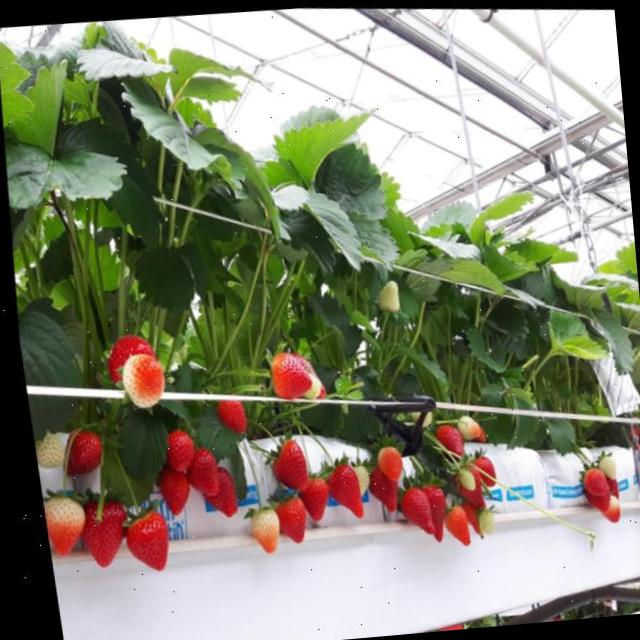ripe: (70, 494, 128, 576), (112, 506, 170, 580), (258, 430, 310, 498), (314, 458, 363, 526), (192, 460, 238, 524), (262, 346, 312, 400), (144, 462, 190, 520), (388, 482, 432, 540), (55, 425, 101, 479), (288, 468, 329, 528), (265, 489, 307, 547), (408, 478, 444, 544), (180, 444, 218, 500), (358, 465, 397, 518), (156, 426, 192, 478), (209, 388, 246, 438), (432, 500, 468, 548), (425, 418, 460, 459), (465, 450, 495, 488), (577, 479, 607, 516), (576, 462, 603, 493), (632, 427, 640, 450), (633, 445, 640, 465)
